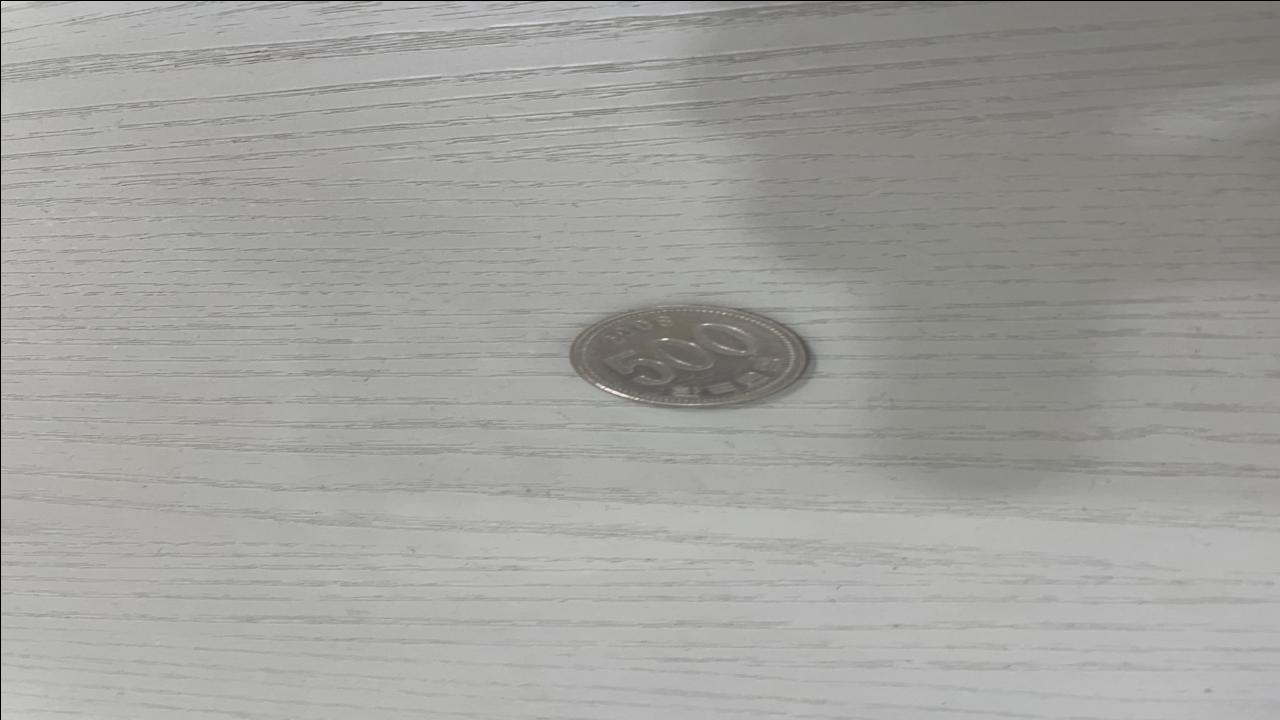coin: (557, 304, 817, 410)
